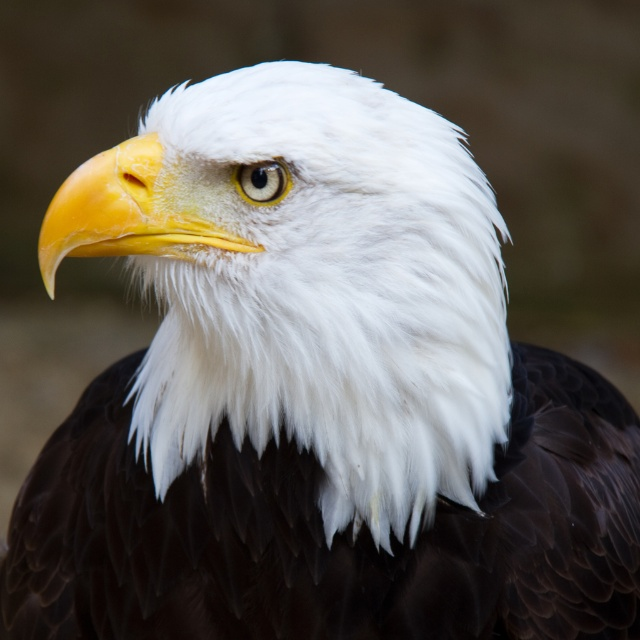Eagle: (0, 57, 640, 640)
